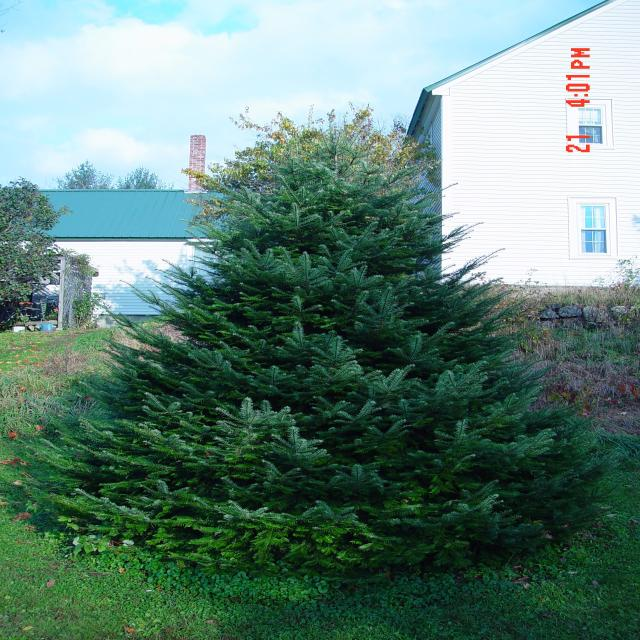Abies: (27, 123, 583, 562)
